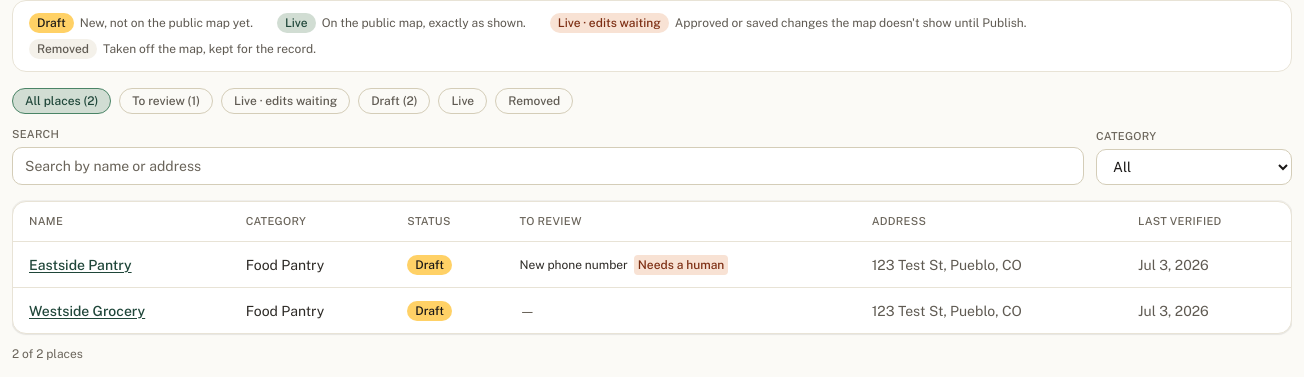
VenueListView — quick-filter chips (#674) › clicking 'To review' shows only rows with a pending proposal
What coordinates should you click on to do the following:
click the button "To review (1)"
I would click on:
 (166, 101)
Its box is 119,88 -> 213,114.
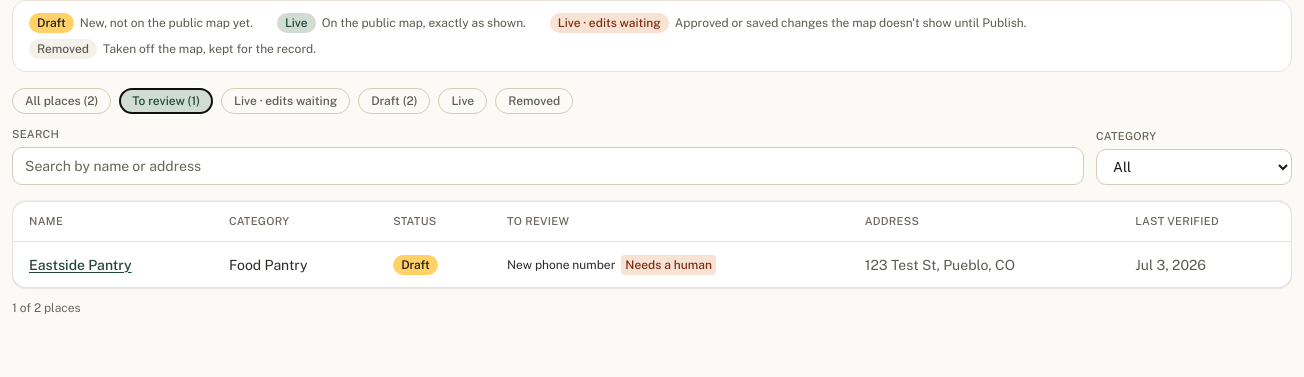
expect the link "Eastside Pantry" is shown: met, box 29,257 -> 132,273
expect the link "Westside Grocery" is gone: met
